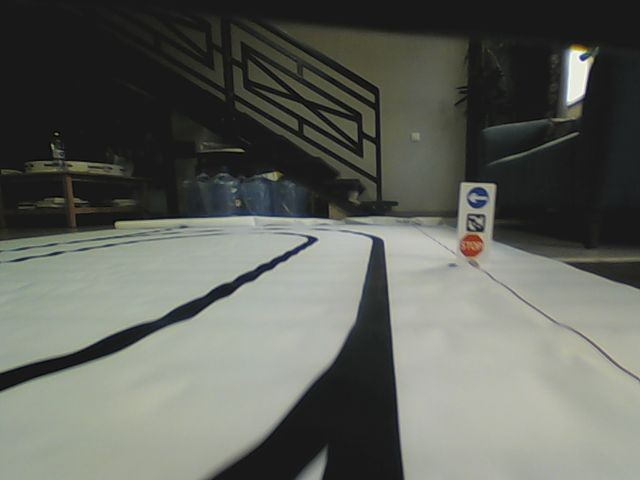Stop: (460, 233, 484, 258)
